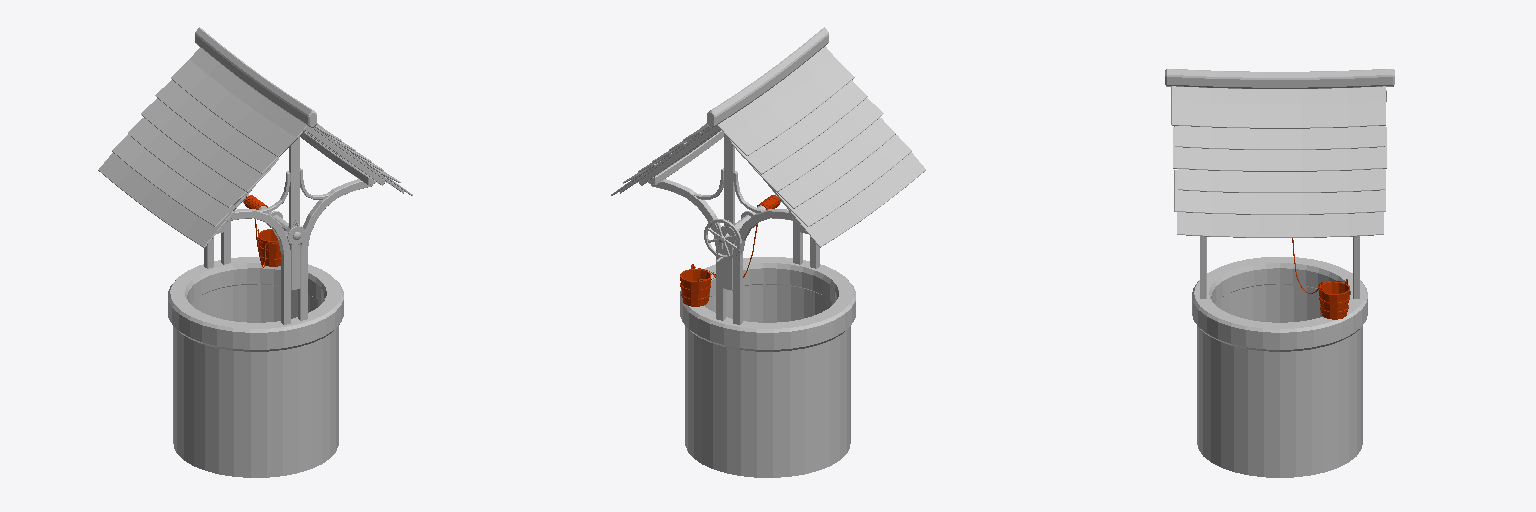
The model's file is Well_OBJ.obj.
The picture shows the model from 3 angles: view 1: azimuth 30°, elevation 25°; view 2: azimuth 150°, elevation 25°; view 3: azimuth 270°, elevation 25°; orthographic projection.
Visible parts, largest first — view 1: Well_Model; view 2: Well_Model; view 3: Well_Model.
Boxes of the visible parts, x1,y1,x2,y2 form: Well_Model: [98, 27, 412, 477]; Well_Model: [611, 27, 925, 477]; Well_Model: [1165, 69, 1394, 477].
Bounding box in the file's own units: 158 × 269 × 149.